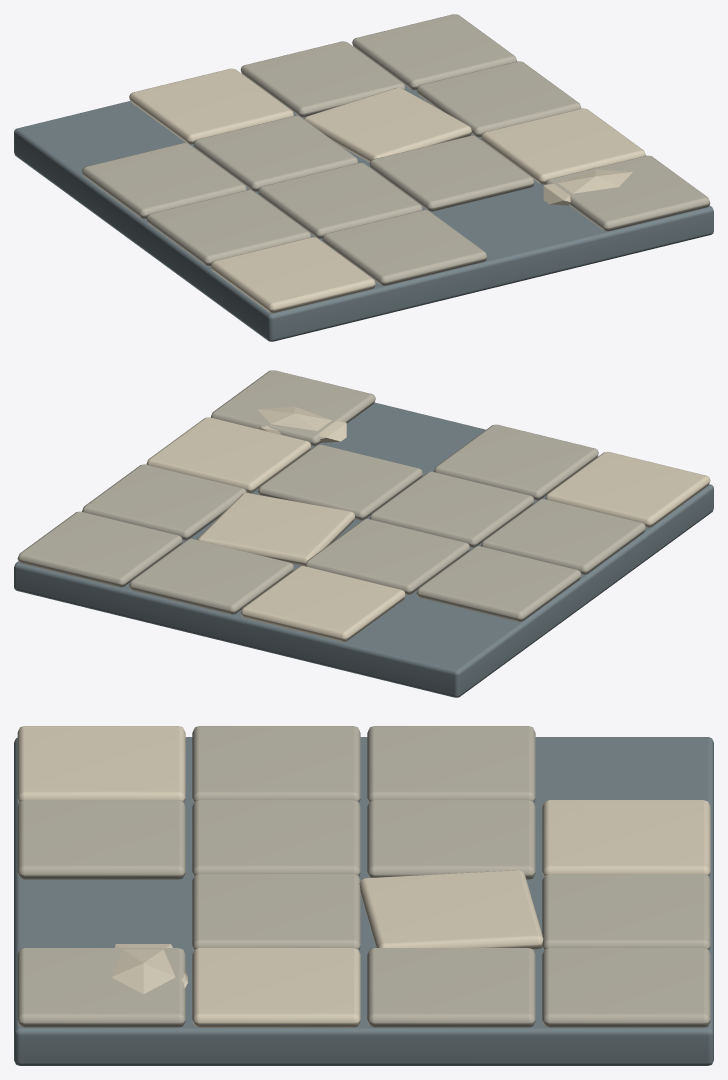
The model's file is SM_Floor_Stone_Damaged_4m.fbx.
3 renders of one model, top to bottom at view 1: azimuth 30°, elevation 25°; view 2: azimuth 150°, elevation 25°; view 3: azimuth 270°, elevation 25°, orthographic. The views are drawn at different scales.
Parts seen in each view (by area): view 1: SM_Floor_Stone_Damaged_4m; view 2: SM_Floor_Stone_Damaged_4m; view 3: SM_Floor_Stone_Damaged_4m.
Boxes of the visible parts, box(x1,y1,x2,y2) form: SM_Floor_Stone_Damaged_4m: box(14, 14, 713, 341); SM_Floor_Stone_Damaged_4m: box(14, 370, 713, 697); SM_Floor_Stone_Damaged_4m: box(14, 726, 713, 1065).
Bounding box in the file's own units: 4 × 0.36 × 4.
